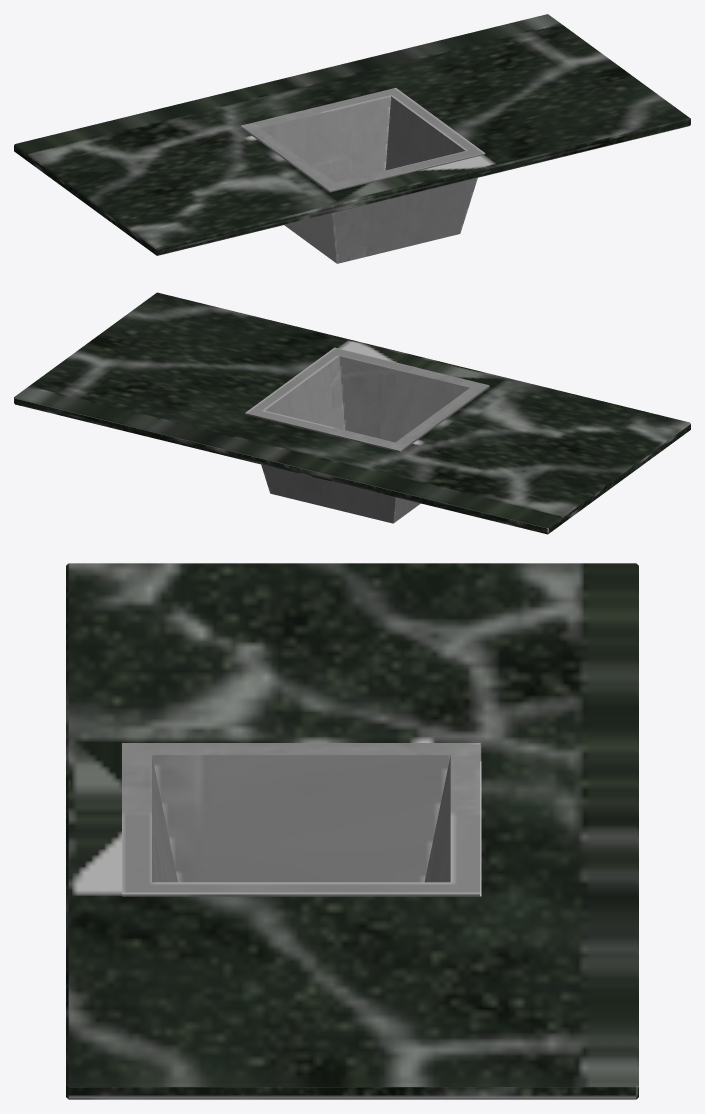
Rendered from water Shelf.fbx.
3 renders of one model, top to bottom at view 1: azimuth 30°, elevation 25°; view 2: azimuth 150°, elevation 25°; view 3: azimuth 270°, elevation 25°, orthographic. The views are drawn at different scales.
Parts seen in each view (by area): view 1: cut_shelf, pCube200; view 2: cut_shelf, pCube200; view 3: cut_shelf, pCube200.
Part boxes in pixels (box(x1,y1,x2,y2)): cut_shelf: box(14, 14, 690, 255); pCube200: box(241, 88, 485, 263); cut_shelf: box(14, 292, 690, 534); pCube200: box(245, 347, 489, 523); cut_shelf: box(66, 563, 638, 1099); pCube200: box(122, 743, 480, 896).
Bounding box in the file's own units: 208 × 30.91 × 96.23.
